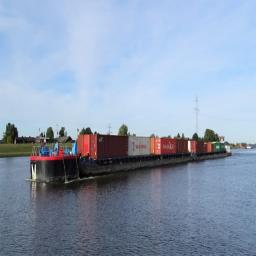tugboat: (219, 135, 234, 162)
